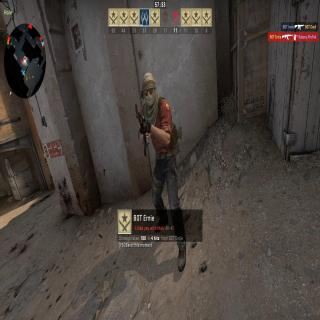T-Body: (137, 71, 187, 270)
T-Head: (141, 74, 157, 107)
